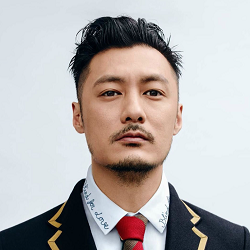unmask: (76, 64, 182, 173)
